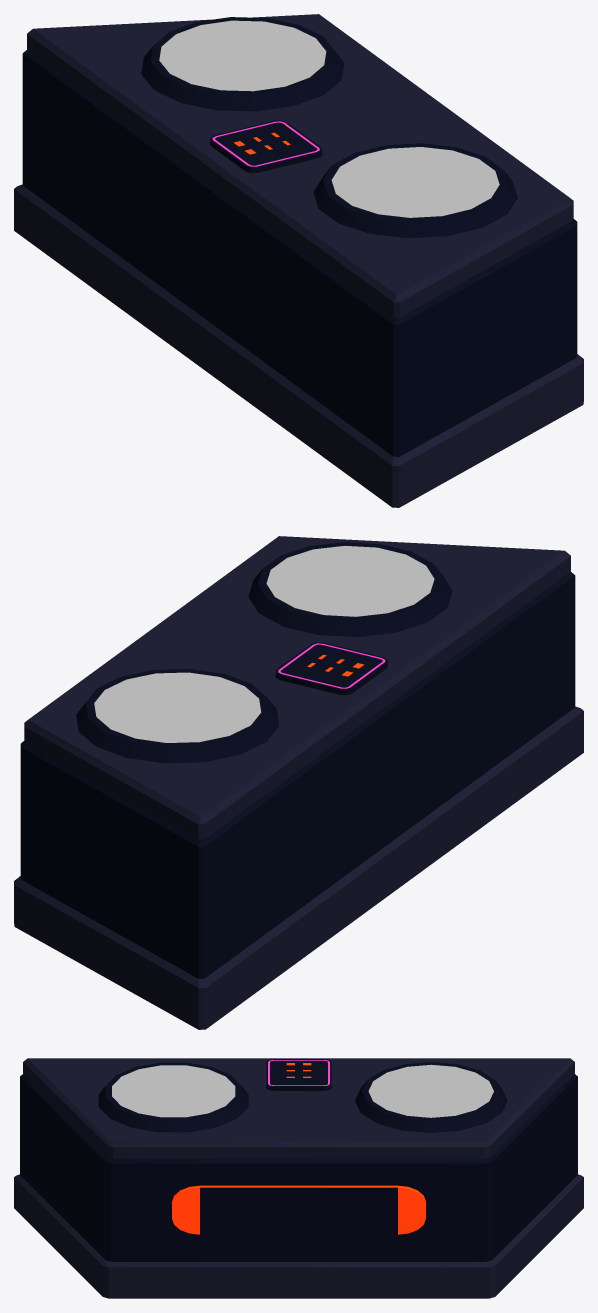
The model's file is DJBox 1.fbx.
3 renders of one model, top to bottom at view 1: azimuth 30°, elevation 25°; view 2: azimuth 150°, elevation 25°; view 3: azimuth 270°, elevation 25°, orthographic. The views are drawn at different scales.
Parts seen in each view (by area): view 1: dj_l; view 2: dj_l; view 3: dj_l.
Boxes of the visible parts, left/top/right/bottom form: dj_l: left=14, top=14, right=583, bottom=507; dj_l: left=14, top=536, right=583, bottom=1029; dj_l: left=14, top=1058, right=583, bottom=1298.
Size of the model in its own units: 81.99 by 214 by 66.95.
